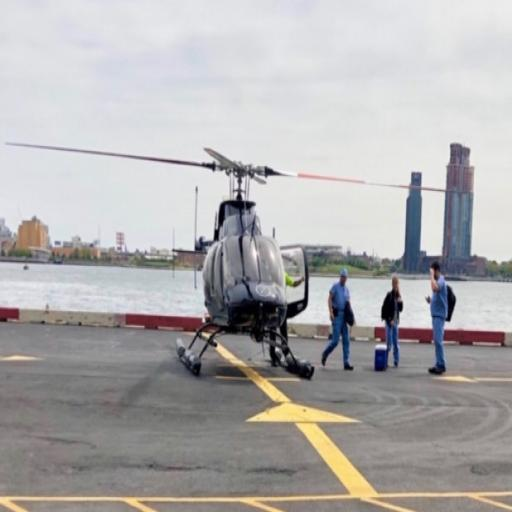helicopter: (6, 137, 472, 379)
